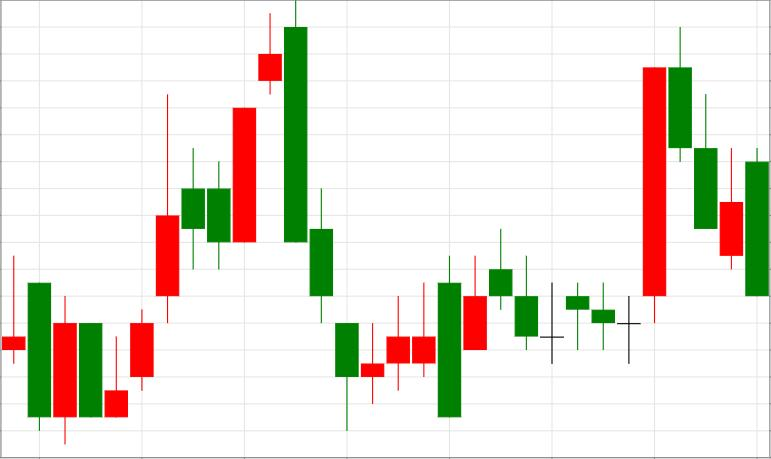bearish_engulfing_fall: (105, 0, 307, 418)
shooting_star_fall: (105, 14, 282, 419)
